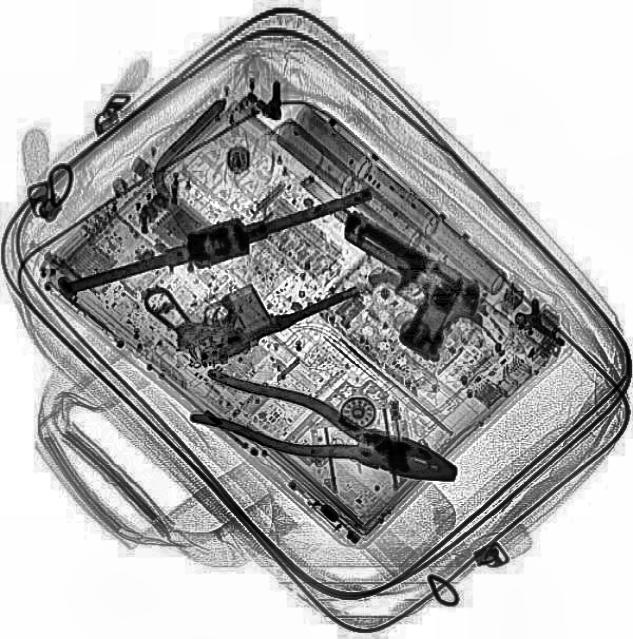Gun: (139, 216, 367, 378), (300, 205, 502, 373)
Pliers: (185, 363, 467, 503)
